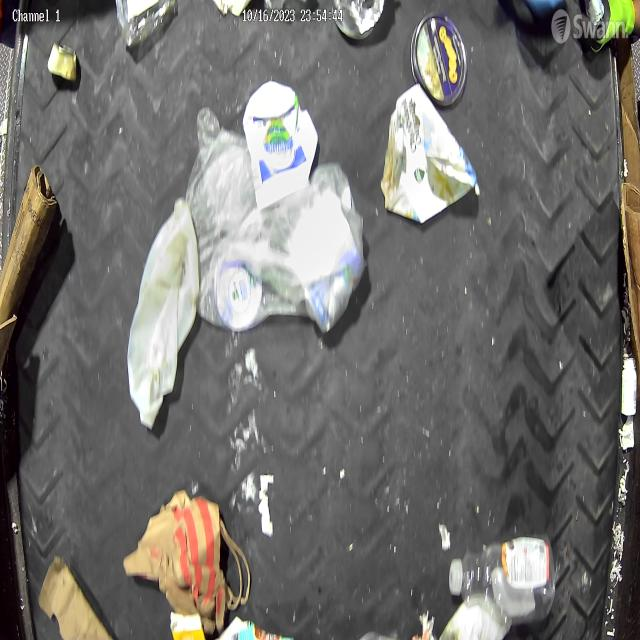milk_jug: (126, 196, 201, 429)
plastic_bottle: (448, 530, 557, 626)
